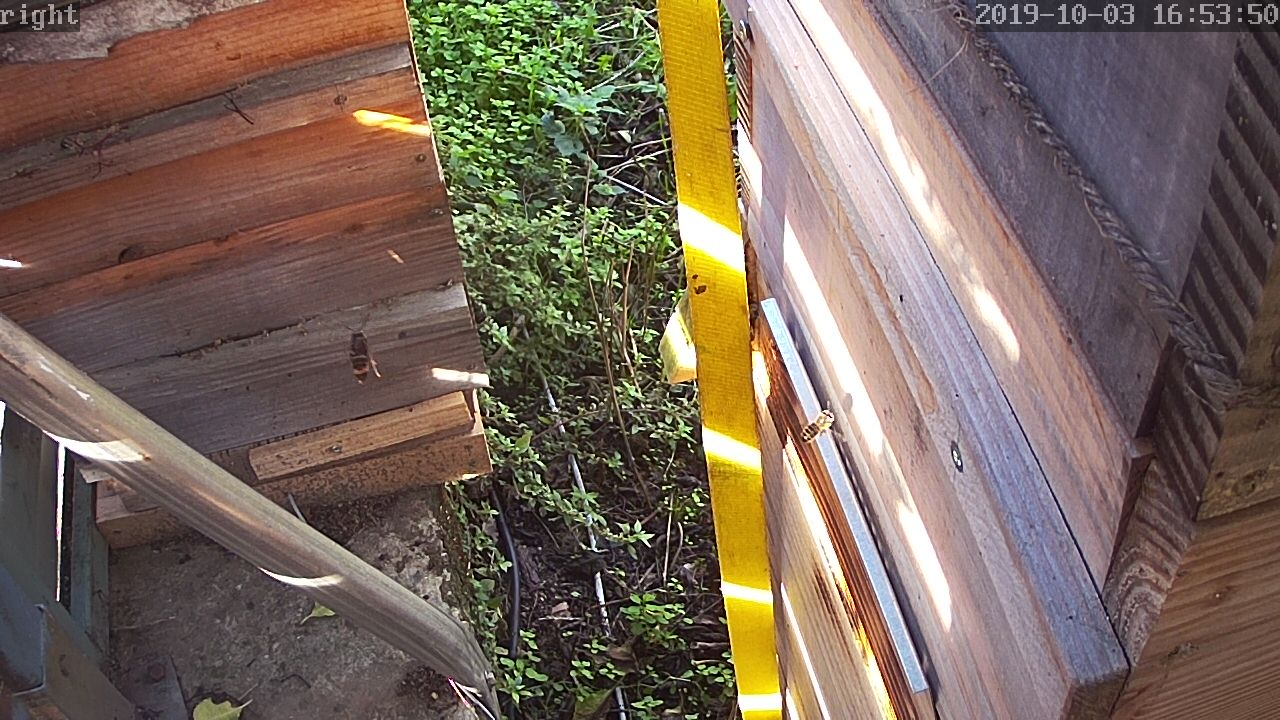bee: (800, 407, 832, 447)
hornet: (345, 323, 379, 384)
